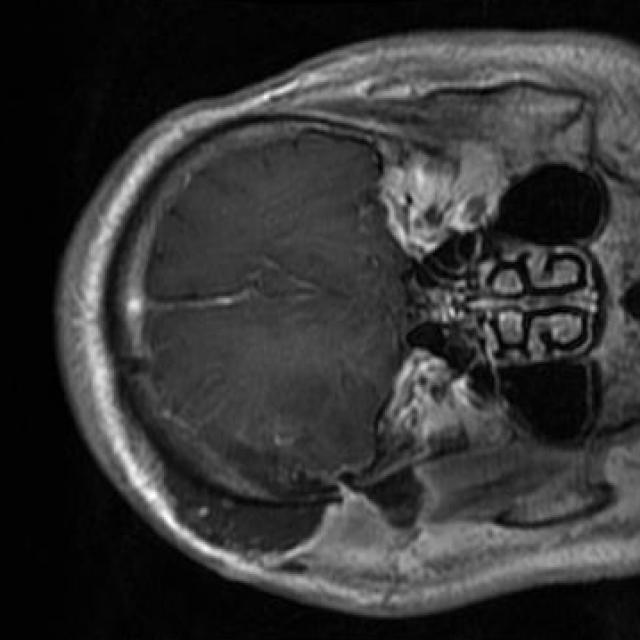glioma: (200, 365, 380, 483)
